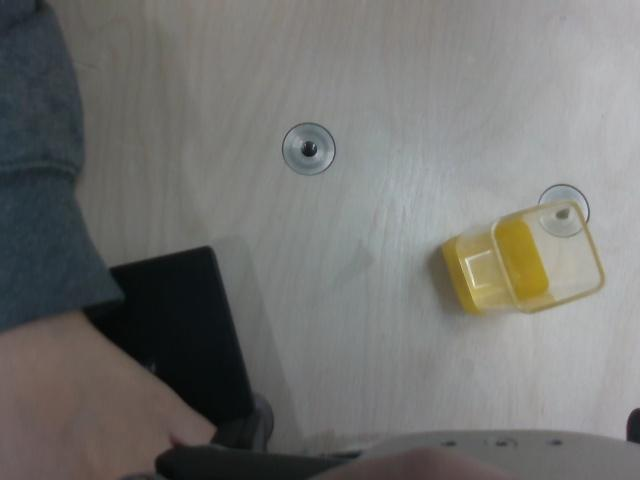yellow_cup: (441, 219, 549, 318)
